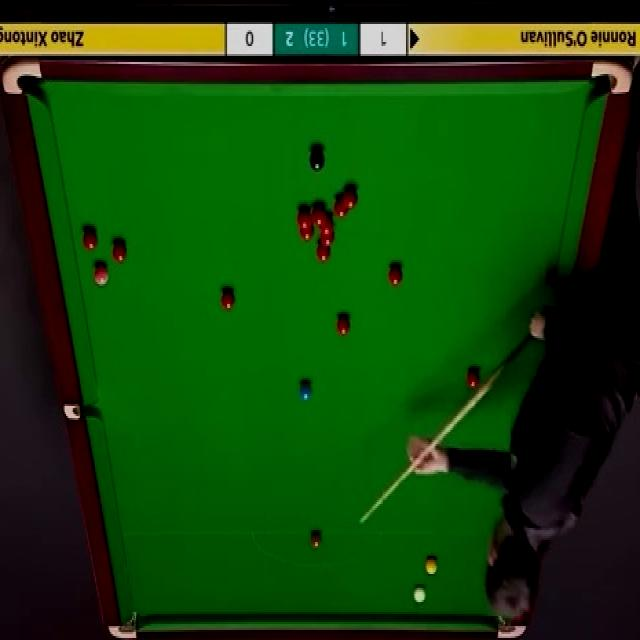black-ball: (309, 150, 326, 172)
blue-ball: (298, 380, 314, 402)
brown-ball: (310, 530, 324, 550)
pink-ball: (92, 263, 110, 286)
red-ball: (82, 229, 99, 252), (112, 240, 127, 266), (342, 186, 357, 212), (220, 290, 237, 312), (336, 314, 351, 338), (388, 266, 404, 288), (334, 196, 349, 219), (297, 207, 311, 231), (312, 204, 326, 227), (317, 242, 331, 264), (467, 367, 481, 388), (320, 229, 336, 247), (320, 215, 333, 235), (298, 227, 314, 243)
white-ball: (414, 584, 425, 604)
yellow-ball: (426, 554, 438, 575)
